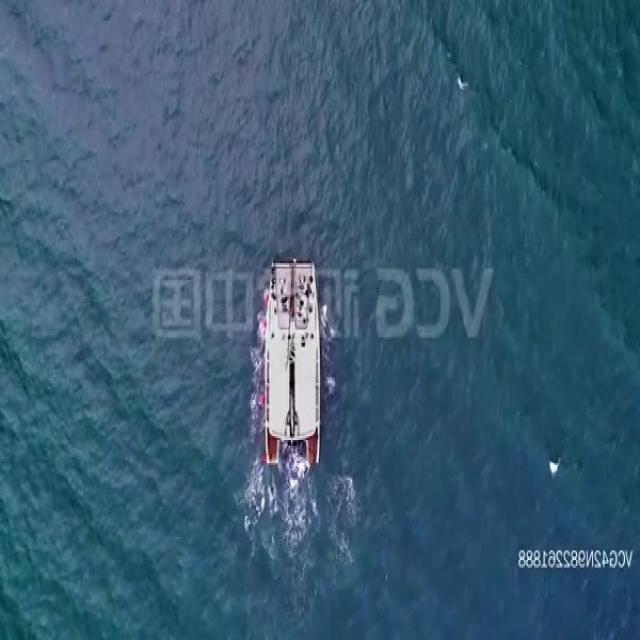houseboat: (261, 253, 322, 468)
